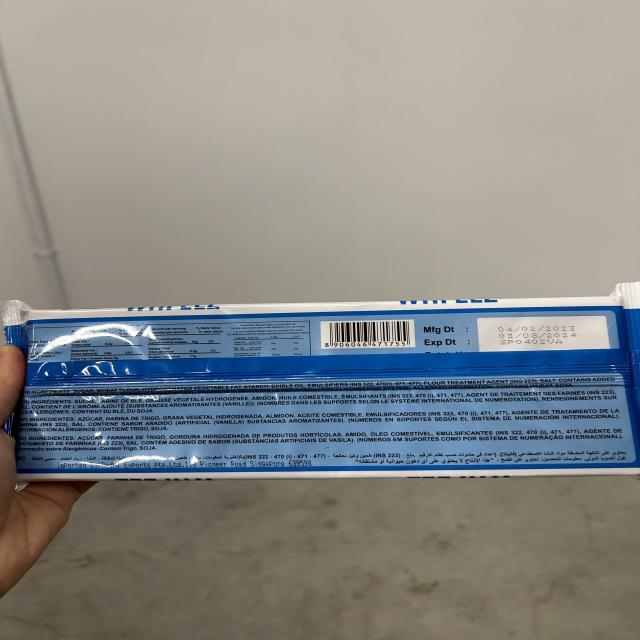object_name: (31, 310, 640, 472)
